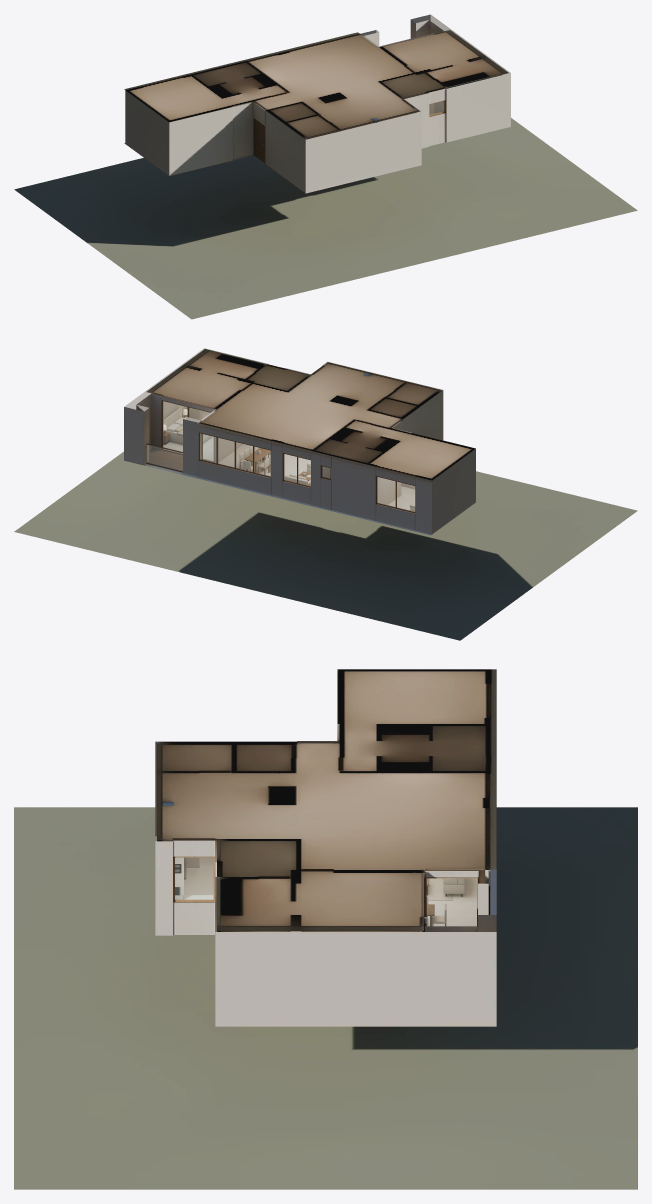
3 renders of one model, top to bottom at view 1: azimuth 30°, elevation 25°; view 2: azimuth 150°, elevation 25°; view 3: azimuth 270°, elevation 25°, orthographic. The views are drawn at different scales.
Visible parts, largest first — view 1: D8_piso, D8_muros, D8_carp; view 2: D8_piso, D8_muros, D8_vidrio, D8_carp, D8_muebles; view 3: D8_piso, D8_muros, D8_vidrio, D8_muebles, D8_carp.
Part boxes in pixels (<box>): D8_piso: <box>14,118,637,319</box>; D8_muros: <box>124,14,510,193</box>; D8_carp: <box>253,88,447,162</box>; D8_piso: <box>14,411,637,640</box>; D8_muros: <box>124,348,475,534</box>; D8_vidrio: <box>147,401,414,511</box>; D8_carp: <box>146,400,415,513</box>; D8_muebles: <box>163,373,415,511</box>; D8_piso: <box>14,807,637,1189</box>; D8_muros: <box>155,669,496,1026</box>; D8_vidrio: <box>175,858,476,925</box>; D8_muebles: <box>162,802,464,926</box>; D8_carp: <box>173,856,488,931</box>.
Size of the model in its own units: 25.58 by 6.17 by 17.64.
5 materials, 4 textured.
